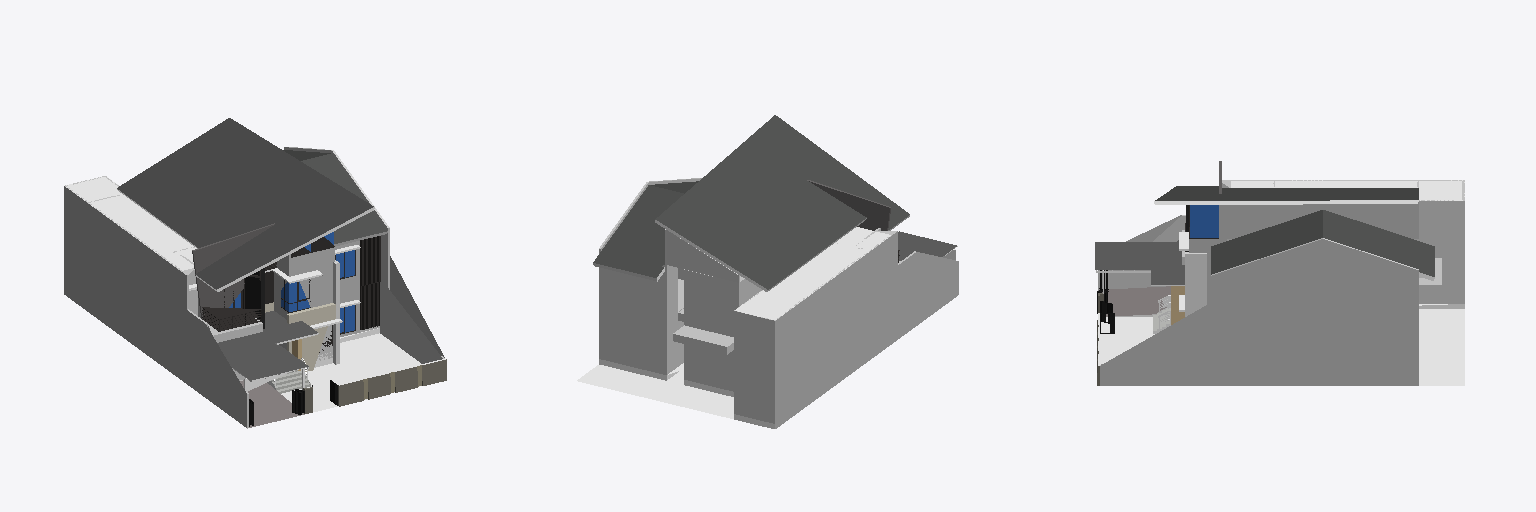
The model's file is Home2.obj.
3 renders of one model, left to right at view 1: azimuth 30°, elevation 25°; view 2: azimuth 150°, elevation 25°; view 3: azimuth 270°, elevation 25°, orthographic.
Parts seen in each view (by area): view 1: Mesh83 Group49 Model, Mesh31 Group18 Model, Mesh92 Group58 Model, Mesh90 Group56 Model, Mesh331 Model, Mesh252 Group106 Model, Mesh79 Group46 Model, Mesh23 Group11 Model, Mesh49 Group29 Model, Mesh84 Group50 Model, Mesh21 Group9 Group6 Model, Mesh89 Group55 Model (+4 smaller); view 2: Mesh83 Group49 Model, Mesh31 Group18 Model, Mesh92 Group58 Model, Mesh84 Group50 Model, Mesh331 Model, Mesh89 Group55 Model, Mesh252 Group106 Model, Mesh23 Group11 Model, Mesh79 Group46 Model, Mesh48 Group28 Model, Mesh21 Group9 Group6 Model; view 3: Mesh90 Group56 Model, Mesh31 Group18 Model, Mesh92 Group58 Model, Mesh84 Group50 Model, Mesh252 Group106 Model, Mesh83 Group49 Model, Mesh81 Group47 Model, Mesh79 Group46 Model, Mesh331 Model, Mesh89 Group55 Model, Mesh21 Group9 Group6 Model, Mesh23 Group11 Model (+3 smaller).
Part boxes in pixels (x1,y1,x2,y2): Mesh83 Group49 Model: (117, 118, 374, 291); Mesh31 Group18 Model: (64, 176, 359, 333); Mesh92 Group58 Model: (64, 242, 379, 389); Mesh90 Group56 Model: (284, 147, 444, 363); Mesh331 Model: (66, 177, 196, 270); Mesh252 Group106 Model: (281, 334, 420, 411); Mesh79 Group46 Model: (64, 289, 379, 427); Mesh23 Group11 Model: (202, 321, 248, 428); Mesh49 Group29 Model: (338, 359, 446, 406); Mesh84 Group50 Model: (283, 150, 387, 246); Mesh21 Group9 Group6 Model: (219, 343, 308, 380); Mesh89 Group55 Model: (64, 234, 359, 342); Mesh83 Group49 Model: (655, 115, 909, 291); Mesh31 Group18 Model: (599, 180, 912, 368); Mesh92 Group58 Model: (599, 277, 912, 423); Mesh84 Group50 Model: (593, 181, 698, 281); Mesh331 Model: (735, 227, 890, 319); Mesh89 Group55 Model: (599, 269, 912, 376); Mesh252 Group106 Model: (577, 365, 733, 418); Mesh23 Group11 Model: (912, 251, 958, 327); Mesh79 Group46 Model: (599, 324, 912, 428); Mesh48 Group28 Model: (667, 230, 739, 282); Mesh21 Group9 Group6 Model: (898, 231, 956, 260); Mesh90 Group56 Model: (1100, 238, 1418, 385); Mesh31 Group18 Model: (1189, 161, 1464, 325); Mesh92 Group58 Model: (1207, 257, 1464, 380); Mesh84 Group50 Model: (1211, 210, 1434, 280); Mesh252 Group106 Model: (1100, 309, 1464, 385); Mesh83 Group49 Model: (1154, 186, 1418, 204); Mesh81 Group47 Model: (1219, 203, 1418, 238); Mesh79 Group46 Model: (1098, 286, 1464, 385); Mesh331 Model: (1231, 180, 1464, 200); Mesh89 Group55 Model: (1207, 249, 1464, 333); Mesh21 Group9 Group6 Model: (1095, 242, 1175, 269); Mesh23 Group11 Model: (1098, 215, 1185, 289).
Size of the model in its own units: 596 by 468 by 958.